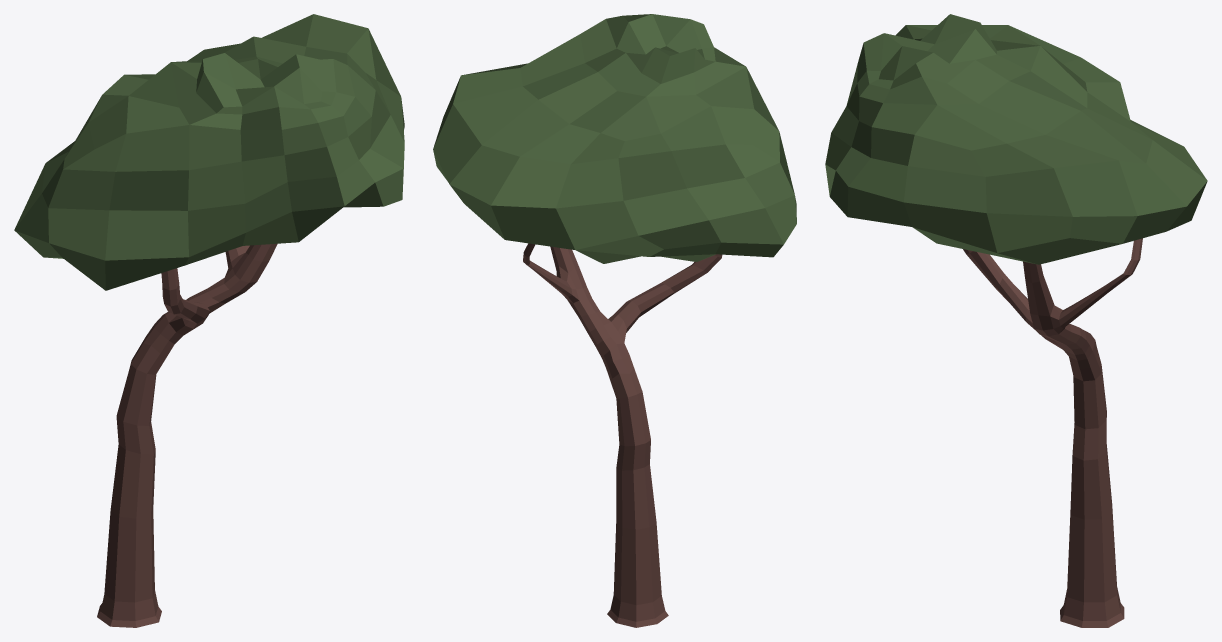
The model's file is Orange_Harvested.gltf.
3 renders of one model, left to right at view 1: azimuth 30°, elevation 25°; view 2: azimuth 150°, elevation 25°; view 3: azimuth 270°, elevation 25°, orthographic. The views are drawn at different scales.
Visible parts, largest first — view 1: Orange_Harvested; view 2: Orange_Harvested; view 3: Orange_Harvested.
Boxes of the visible parts, <box> form: Orange_Harvested: <box>14,14,404,627</box>; Orange_Harvested: <box>433,14,796,627</box>; Orange_Harvested: <box>825,14,1207,627</box>.
Bounding box in the file's own units: 1.8 × 2.76 × 1.58.
